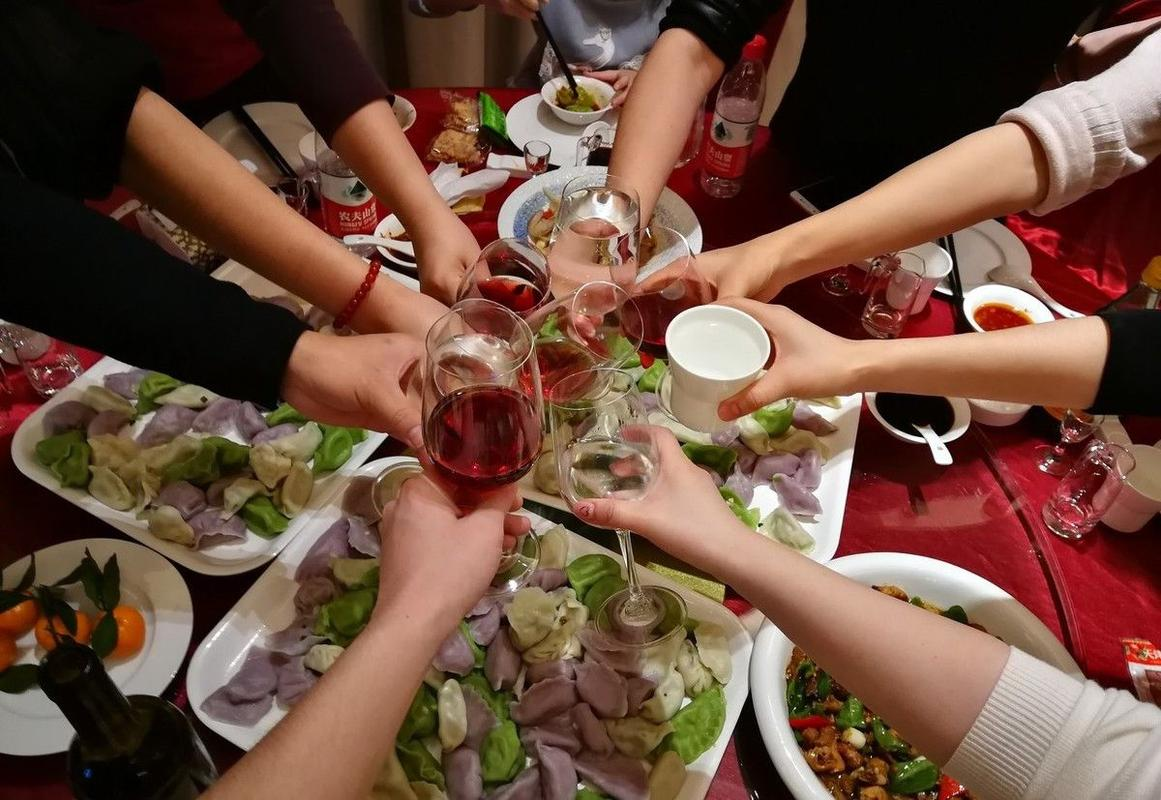food: (373, 532, 746, 778), (21, 355, 383, 566), (27, 534, 177, 669)
